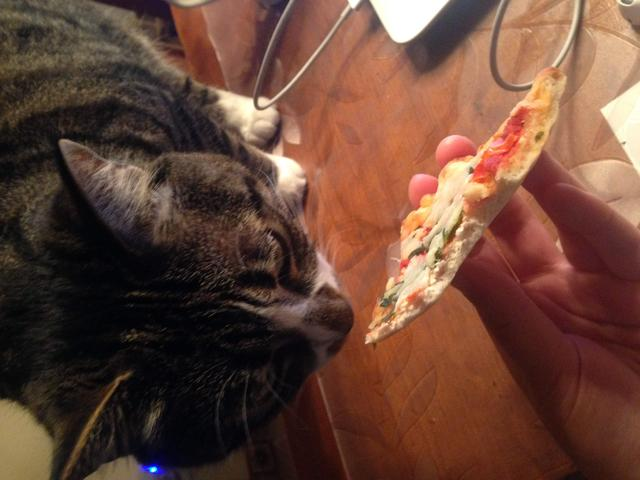playdoh: (1, 1, 354, 480)
